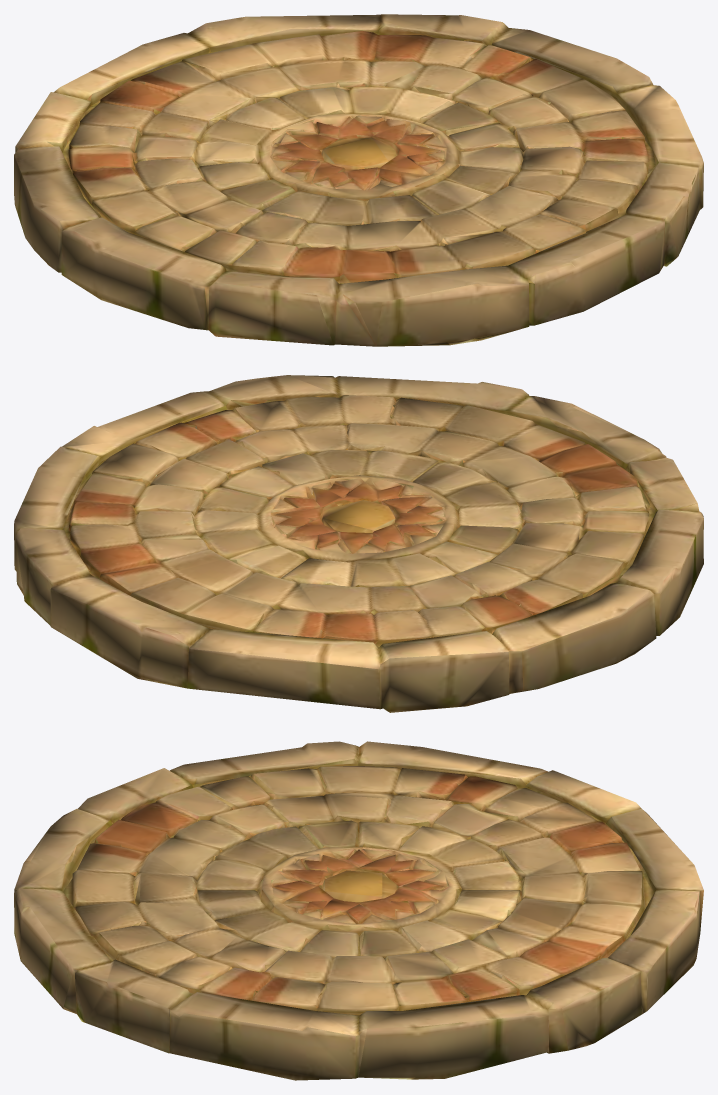
The model's file is plaza-tile.glb.
3 views of the same model, one above another, from view 1: azimuth 30°, elevation 25°; view 2: azimuth 150°, elevation 25°; view 3: azimuth 270°, elevation 25° (orthographic).
Parts seen in each view (by area): view 1: Mesh1.0; view 2: Mesh1.0; view 3: Mesh1.0.
Boxes of the visible parts, box(x1,y1,x2,y2) form: Mesh1.0: box(14, 14, 703, 346); Mesh1.0: box(14, 375, 703, 712); Mesh1.0: box(14, 741, 703, 1080).
Size of the model in its own units: 1.9 by 0.1738 by 1.9.
Materials: 1 (1 with a texture image).
